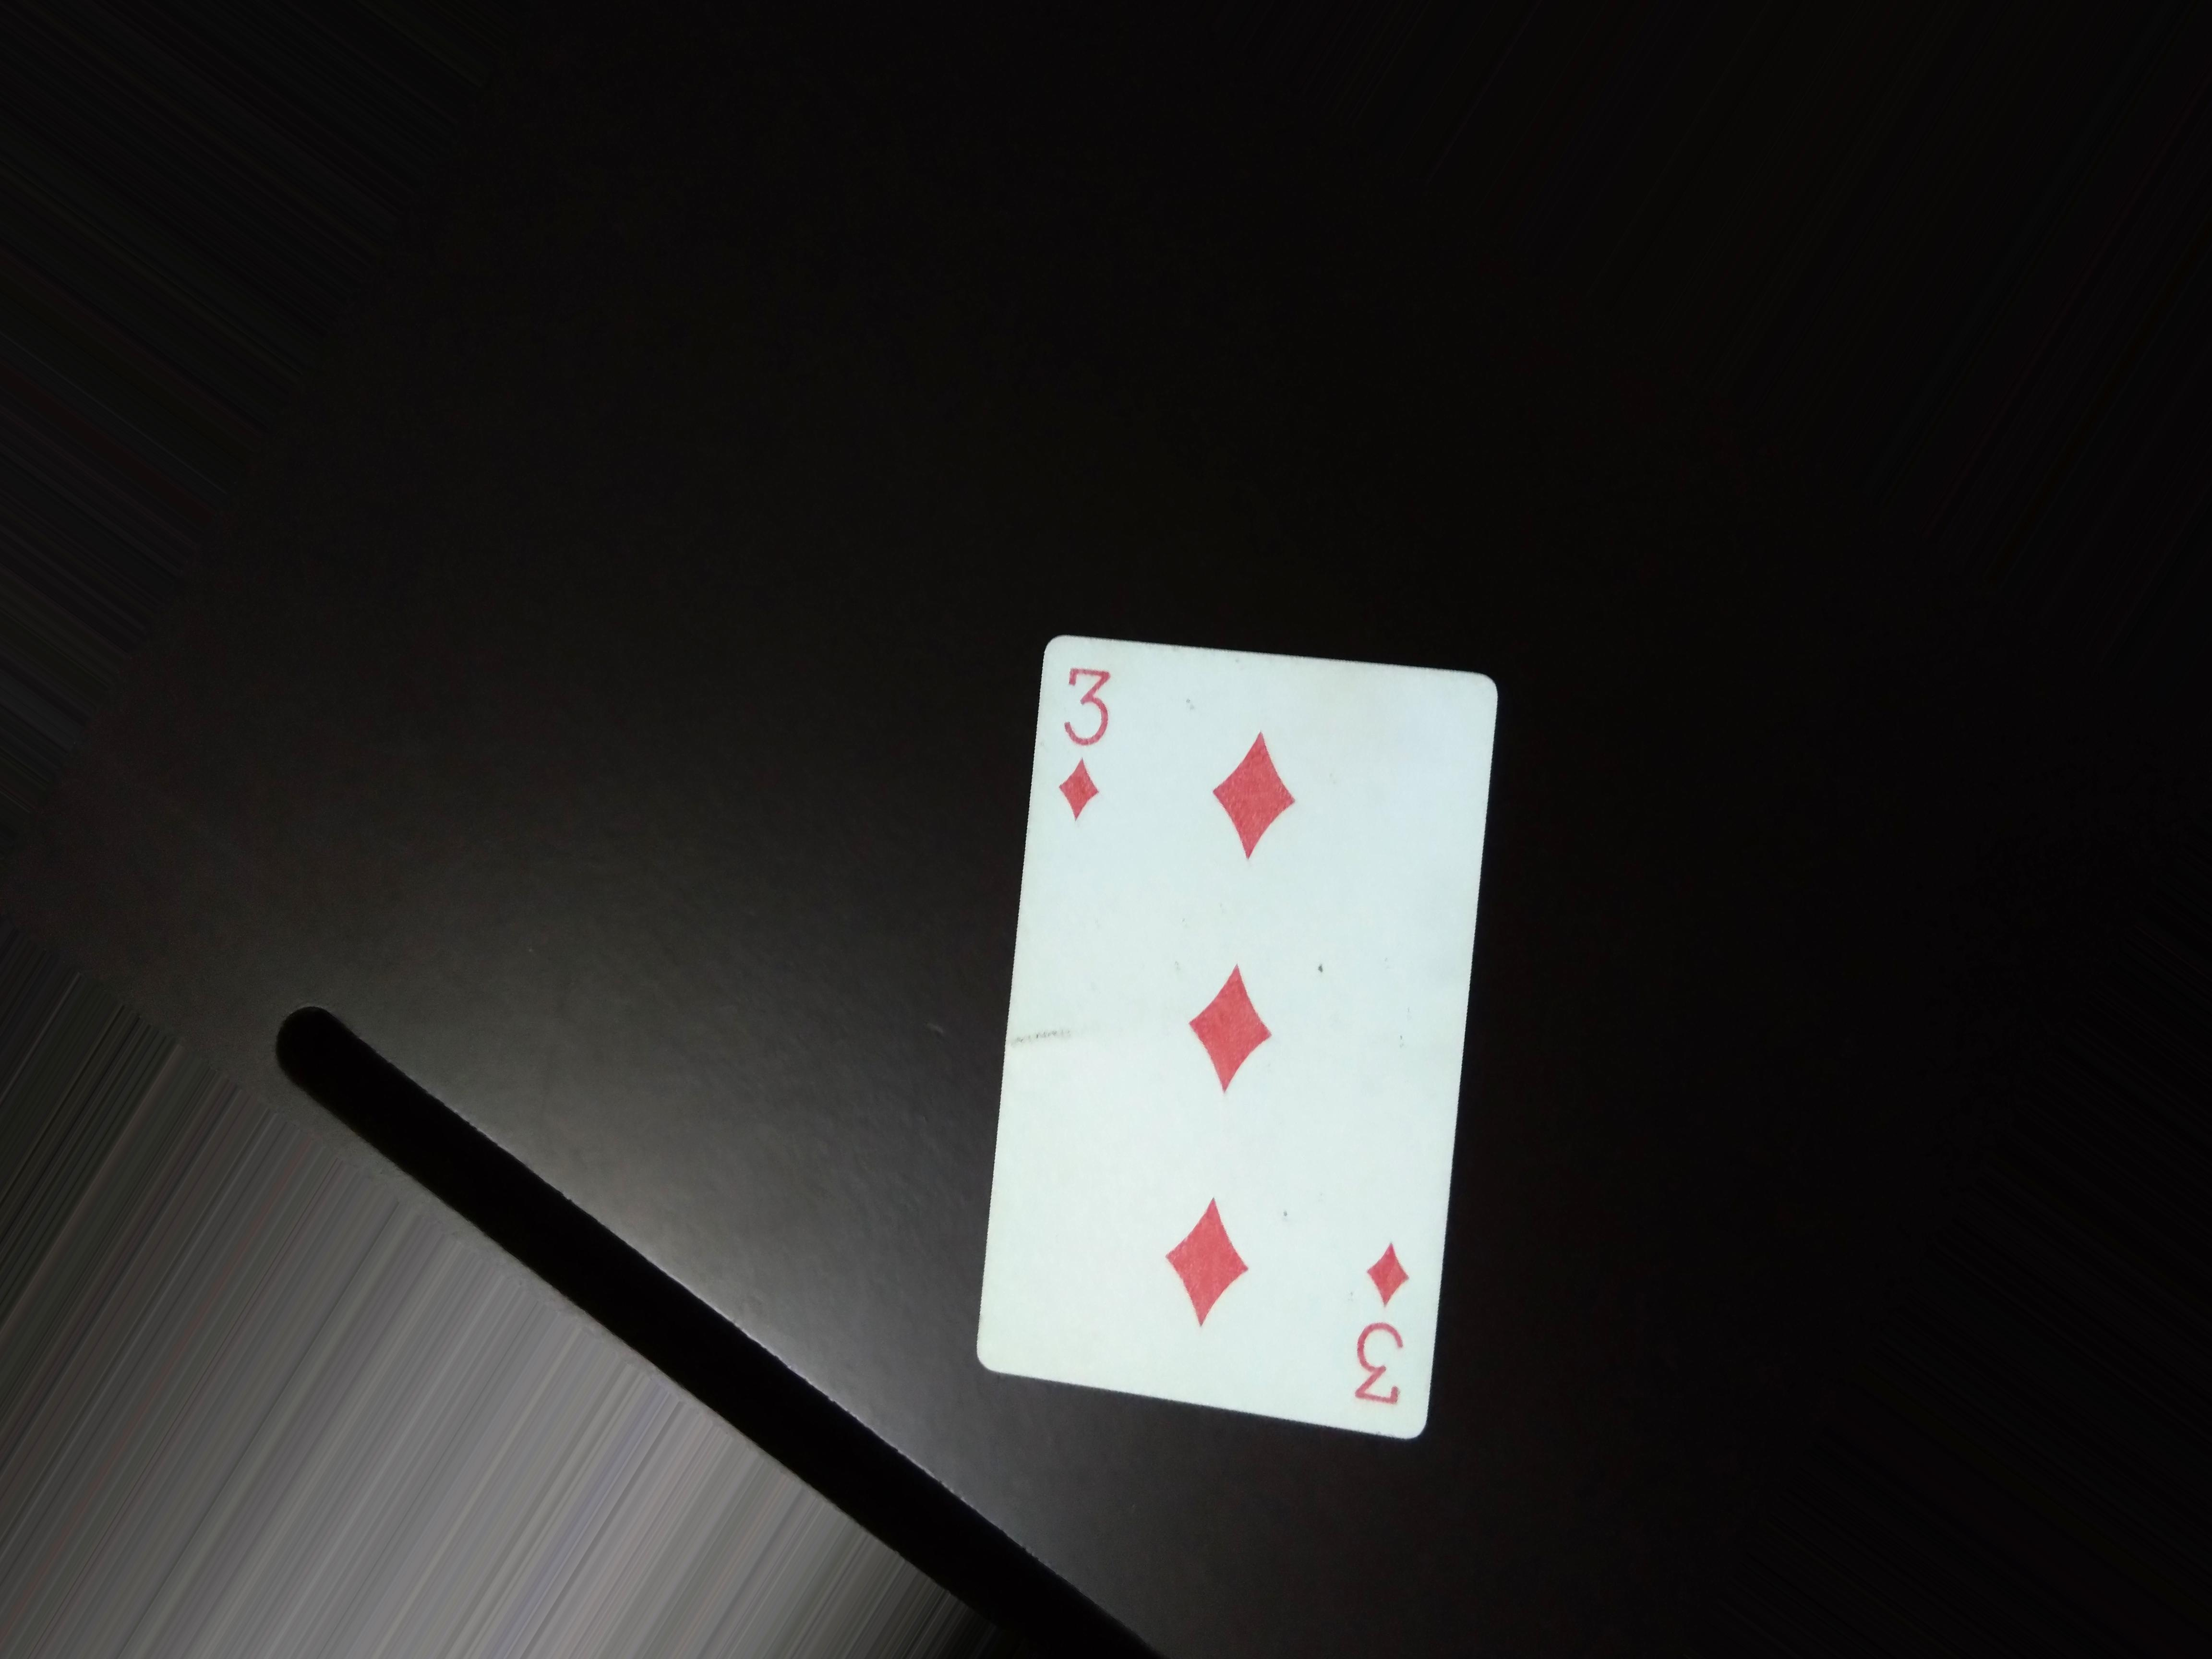3D: (1054, 657, 1141, 819)
